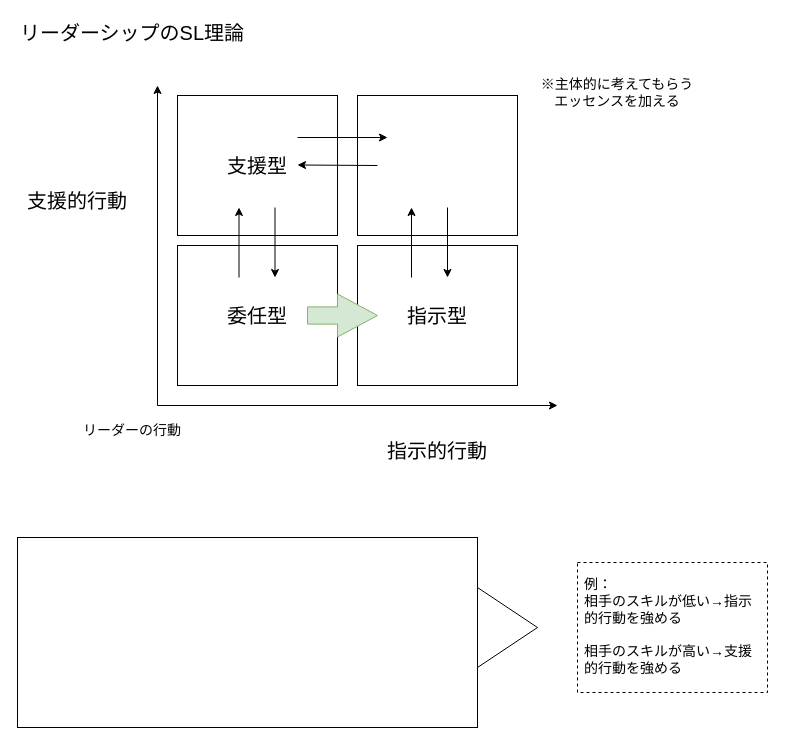
This 785x745 diagram has some shape labels left out. Here are the shapes that lost their labels. From the top down, the centre of each, then its label:
At point (437, 165): "コーチ型".
At point (247, 632): "２軸で見る 相手のコンピタンス（能力、力量、経験） 相手のコミットメント（モチベーション）".
